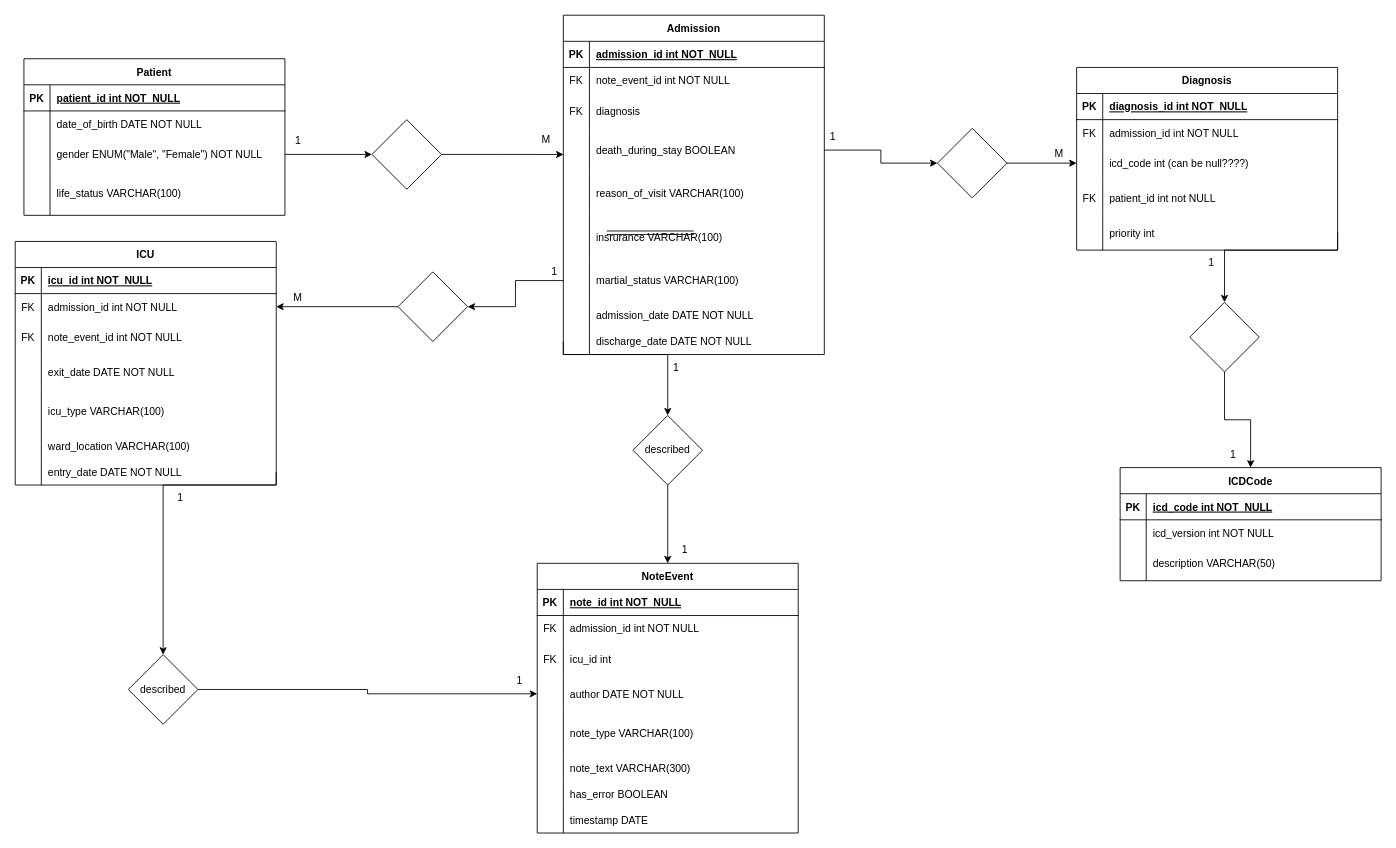
This 1396x848 diagram has some shape labels left out. The centre of each missing label's shape, as x and y in pixels:
admited: (406,154)
defined: (1224,336)
linked: (972,162)
sent: (432,306)
